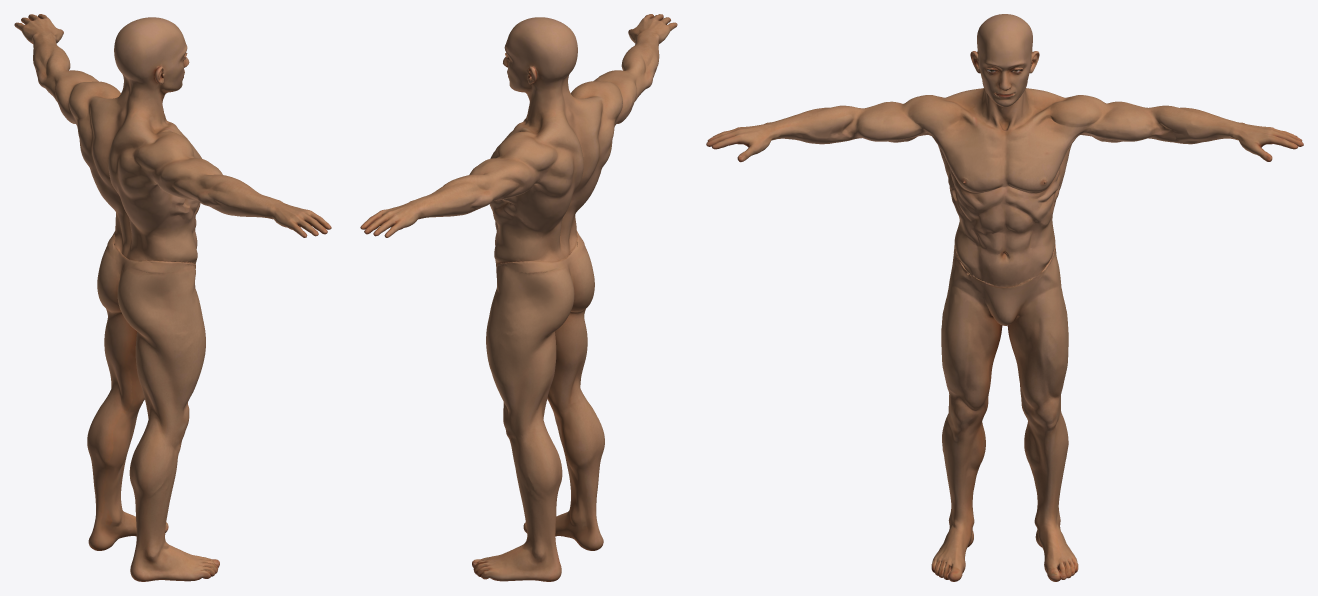
The model's file is human1.fbx.
3 views of the same model, side by side, from view 1: azimuth 30°, elevation 25°; view 2: azimuth 150°, elevation 25°; view 3: azimuth 270°, elevation 25° (orthographic).
Visible parts, largest first — view 1: tripo_node_e6daf002; view 2: tripo_node_e6daf002; view 3: tripo_node_e6daf002.
Part boxes in pixels (box(x1,y1,x2,y2)): tripo_node_e6daf002: box(14, 14, 331, 581); tripo_node_e6daf002: box(360, 14, 677, 581); tripo_node_e6daf002: box(706, 14, 1303, 581).
Size of the model in its own units: 0.1772 by 0.9794 by 0.9743.
1 material, 1 textured.
